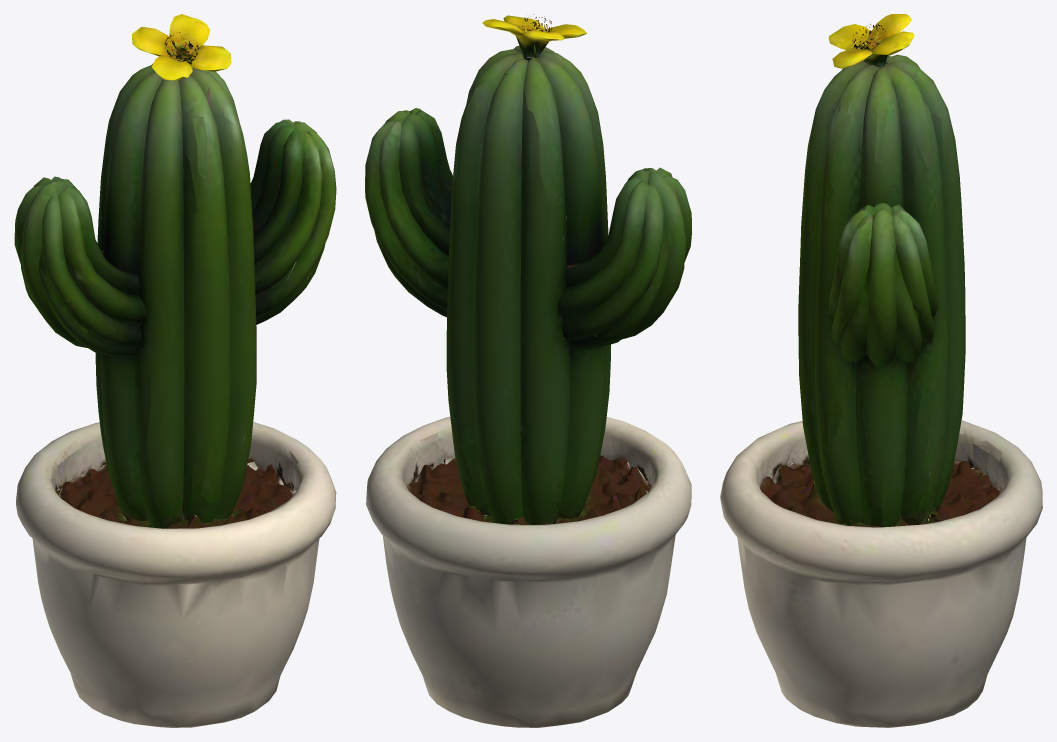
File: cactus.glb
3 renders of one model, left to right at view 1: azimuth 30°, elevation 25°; view 2: azimuth 150°, elevation 25°; view 3: azimuth 270°, elevation 25°, orthographic.
Parts seen in each view (by area): view 1: objeto; view 2: objeto; view 3: objeto.
Part boxes in pixels (x1,y1,x2,y2): objeto: (14,14,336,727); objeto: (365,14,691,727); objeto: (720,14,1042,727).
Bounding box in the file's own units: 0.4853 × 1 × 0.4416.
Materials: 1 (1 with a texture image).
